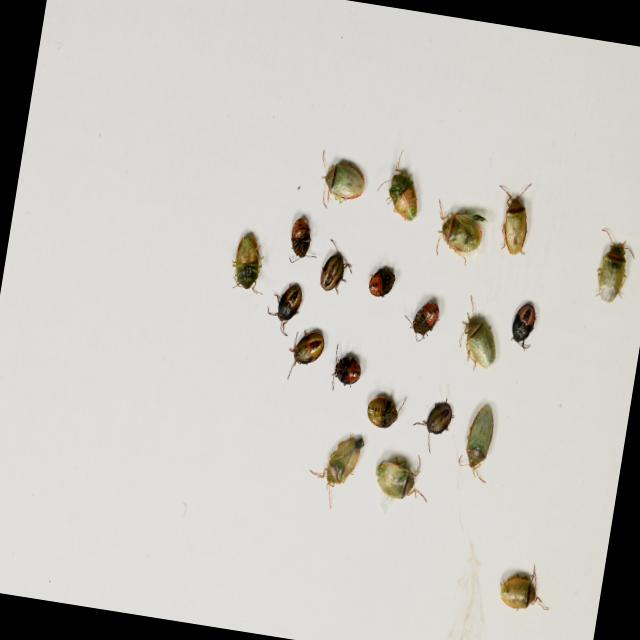stinkbug: (486, 177, 536, 262), (428, 200, 489, 269), (372, 146, 426, 223), (454, 296, 506, 375), (454, 401, 502, 485), (591, 226, 639, 309), (313, 149, 370, 216), (370, 450, 435, 506), (496, 559, 557, 616)
